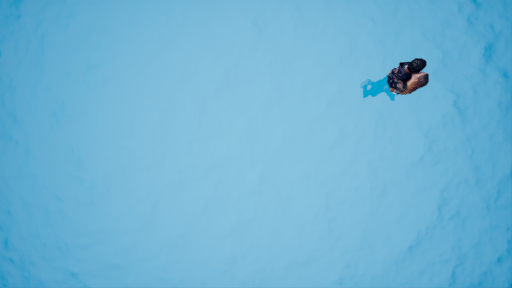person: (360, 55, 433, 105)
